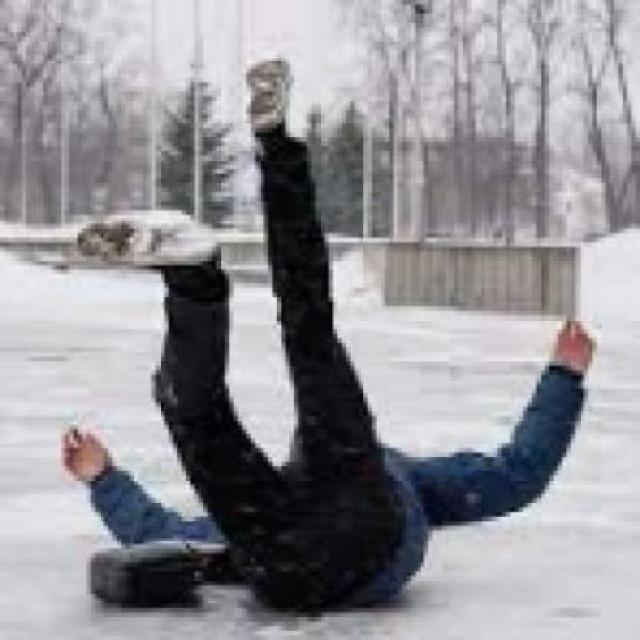fall: (48, 56, 601, 610)
